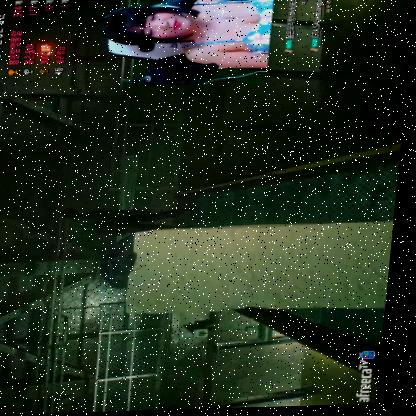streamer: (94, 0, 274, 74)
